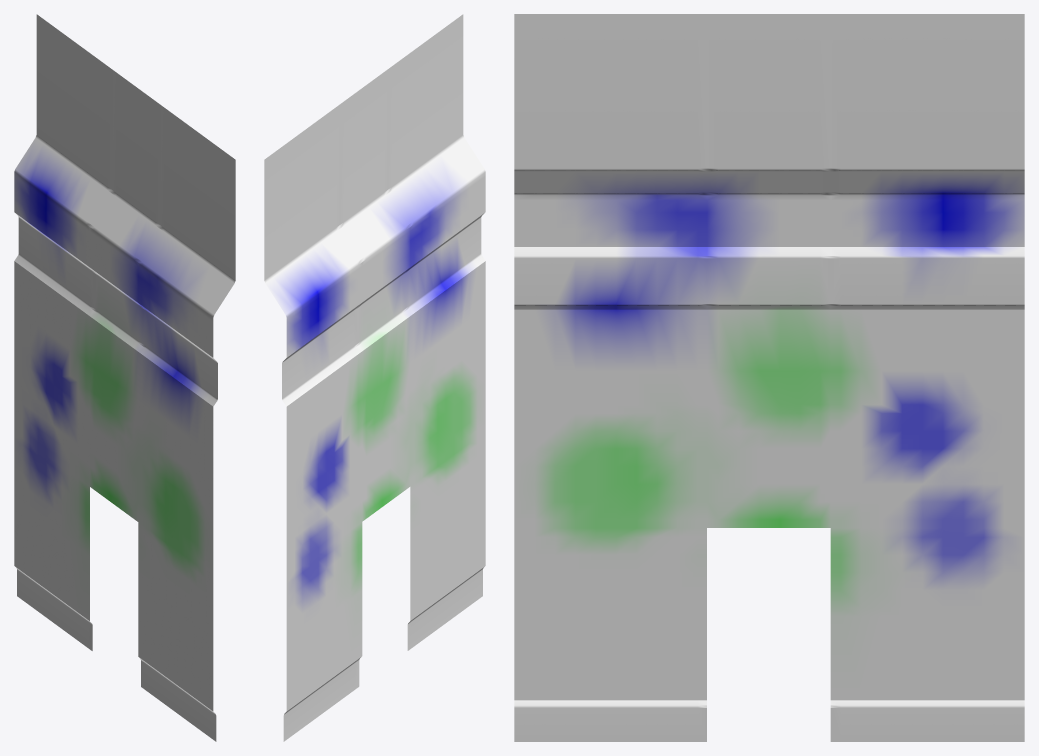
3 renders of one model, left to right at view 1: azimuth 30°, elevation 25°; view 2: azimuth 150°, elevation 25°; view 3: azimuth 270°, elevation 25°, orthographic. The views are drawn at different scales.
Parts seen in each view (by area): view 1: SM_Platform_Wall_Large_05_LOD0; view 2: SM_Platform_Wall_Large_05_LOD0; view 3: SM_Platform_Wall_Large_05_LOD0.
Boxes of the visible parts, x1,y1,x2,y2 form: SM_Platform_Wall_Large_05_LOD0: [14, 14, 235, 741]; SM_Platform_Wall_Large_05_LOD0: [264, 14, 485, 741]; SM_Platform_Wall_Large_05_LOD0: [514, 14, 1024, 741].
Size of the model in its own units: 32.32 by 500 by 800.
